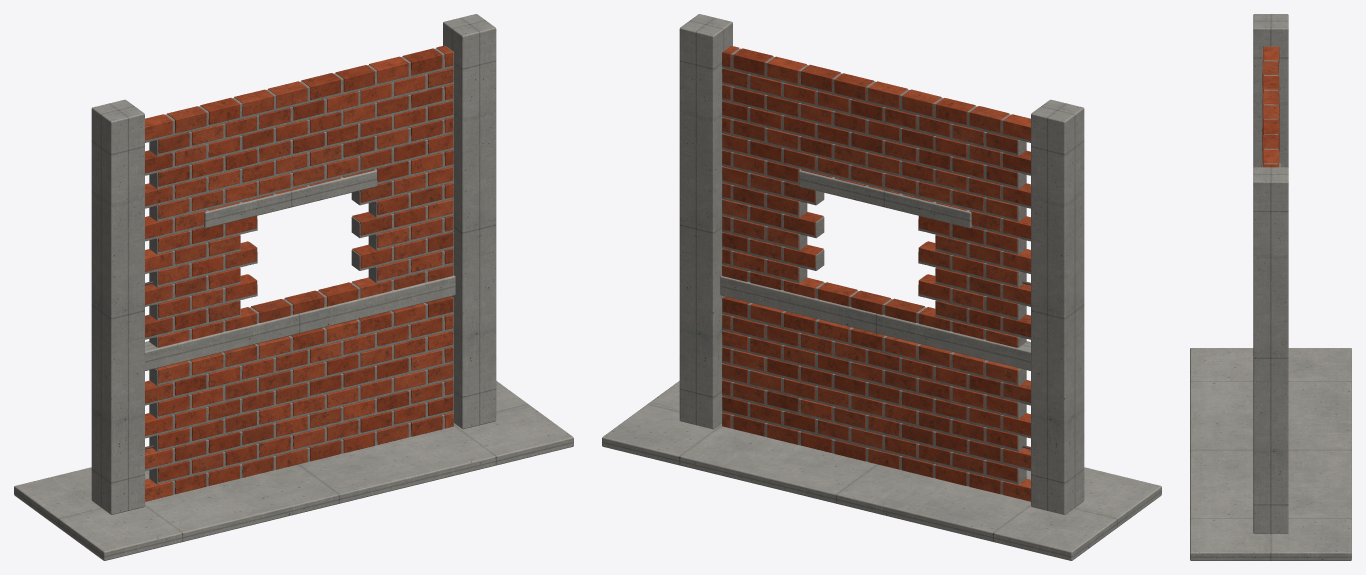
File: chi-tiet-tuong.glb
The picture shows the model from 3 angles, left to right: view 1: azimuth 30°, elevation 25°; view 2: azimuth 150°, elevation 25°; view 3: azimuth 270°, elevation 25°; orthographic projection. The views are drawn at different scales.
Visible parts, largest first — view 1: Base, step0_0, step0_1, step5_33, step3_18, step2_17, step5_29, step5_31, step2_16, step2_14, step2_12, step4_27 (+15 smaller); view 2: Base, step0_0, step0_1, step5_33, step3_18, step2_17, step5_29, step2_16, step5_31, step2_14, step2_12, step4_27 (+15 smaller); view 3: Base, step0_1, step0_0, step5_33.
Part boxes in pixels (left/top/right/bottom): Base: left=14, top=381, right=573, bottom=560; step0_0: left=91, top=99, right=144, bottom=514; step0_1: left=443, top=14, right=496, bottom=429; step5_33: left=145, top=45, right=453, bottom=142; step3_18: left=145, top=275, right=455, bottom=370; step2_17: left=149, top=296, right=453, bottom=386; step5_29: left=145, top=117, right=453, bottom=208; step5_31: left=145, top=84, right=453, bottom=175; step2_16: left=145, top=314, right=453, bottom=405; step2_14: left=145, top=347, right=453, bottom=438; step2_12: left=145, top=380, right=453, bottom=471; step4_27: left=149, top=133, right=453, bottom=221; Base: left=602, top=381, right=1161, bottom=560; step0_0: left=1031, top=99, right=1084, bottom=514; step0_1: left=679, top=14, right=732, bottom=429; step5_33: left=722, top=46, right=1030, bottom=142; step3_18: left=720, top=275, right=1030, bottom=370; step2_17: left=722, top=296, right=1026, bottom=386; step5_29: left=722, top=117, right=1030, bottom=208; step2_16: left=722, top=314, right=1030, bottom=405; step5_31: left=722, top=84, right=1030, bottom=175; step2_14: left=722, top=347, right=1030, bottom=438; step2_12: left=722, top=380, right=1030, bottom=471; step4_27: left=722, top=133, right=1026, bottom=221; Base: left=1190, top=348, right=1351, bottom=560; step0_1: left=1253, top=167, right=1288, bottom=533; step0_0: left=1253, top=14, right=1288, bottom=167; step5_33: left=1262, top=46, right=1279, bottom=167.
Bounding box in the file's own units: 3 × 2.46 × 1.
5 materials, 5 textured.
